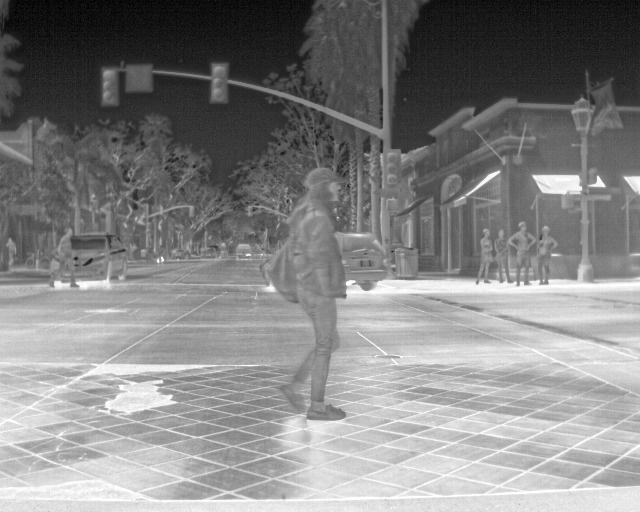bicycle: (335, 233, 388, 291), (73, 236, 126, 284), (235, 242, 253, 261)
empty: (276, 168, 347, 418), (46, 226, 82, 290), (508, 221, 538, 285), (534, 225, 554, 284), (494, 226, 513, 282), (475, 228, 493, 282), (5, 237, 19, 269)
